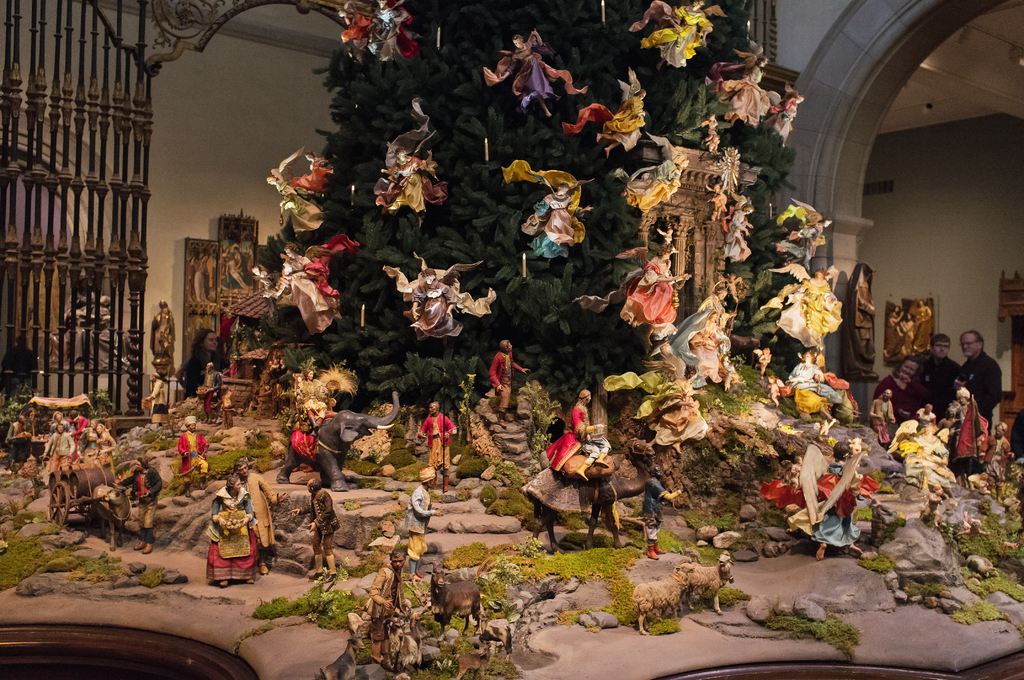Tree: (222, 0, 853, 462)
